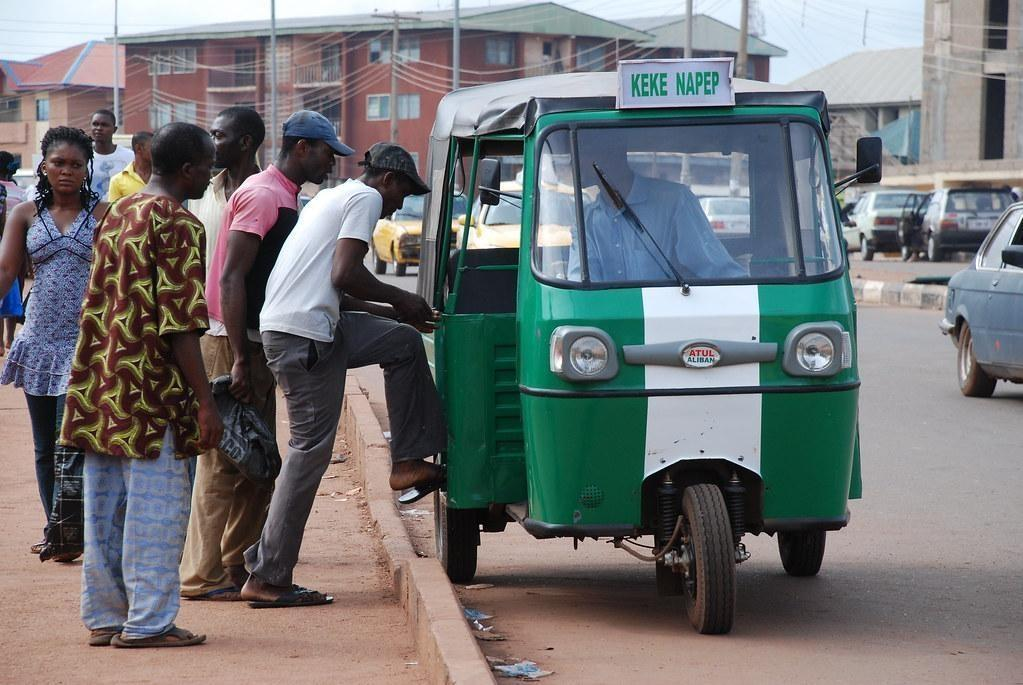keke: (411, 49, 878, 643)
